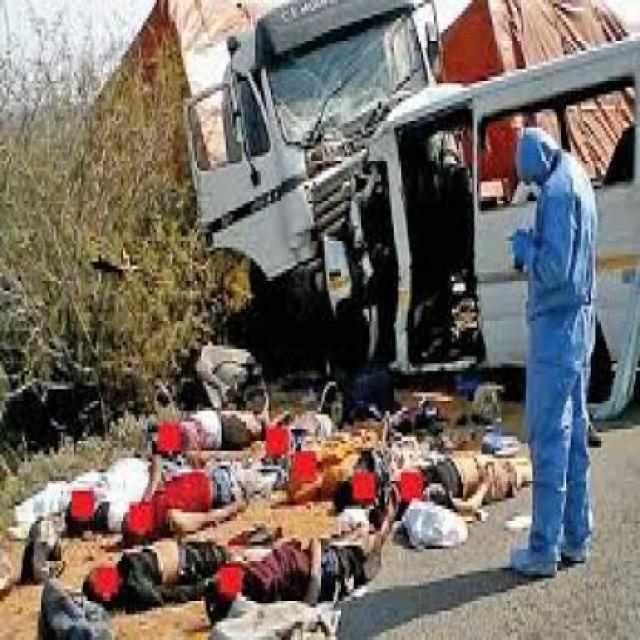accident: (172, 9, 640, 402)
